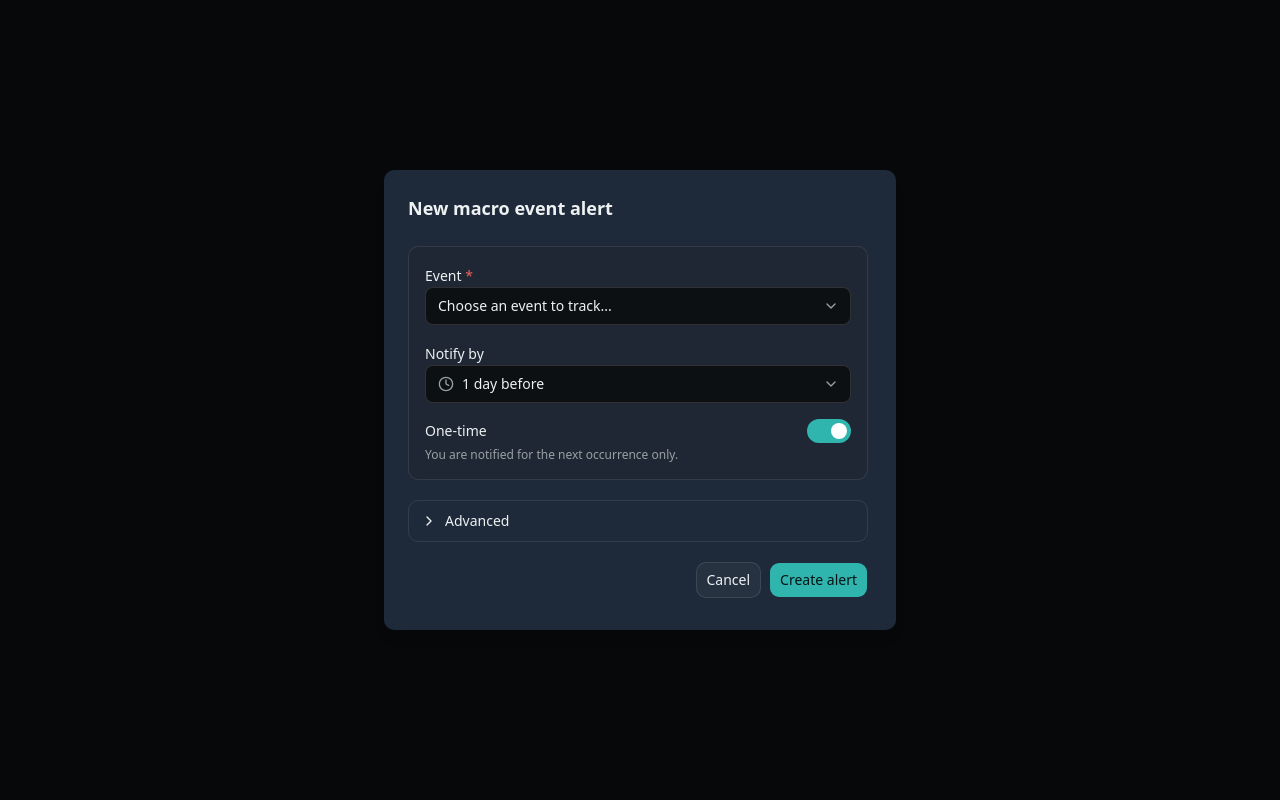
Test: MacroAlertForm › folds notification channels behind Advanced
Expected: the switch labelled "In the app" is not shown
Click the button "Advanced". click: [477, 520]
box: [409,501,867,541]
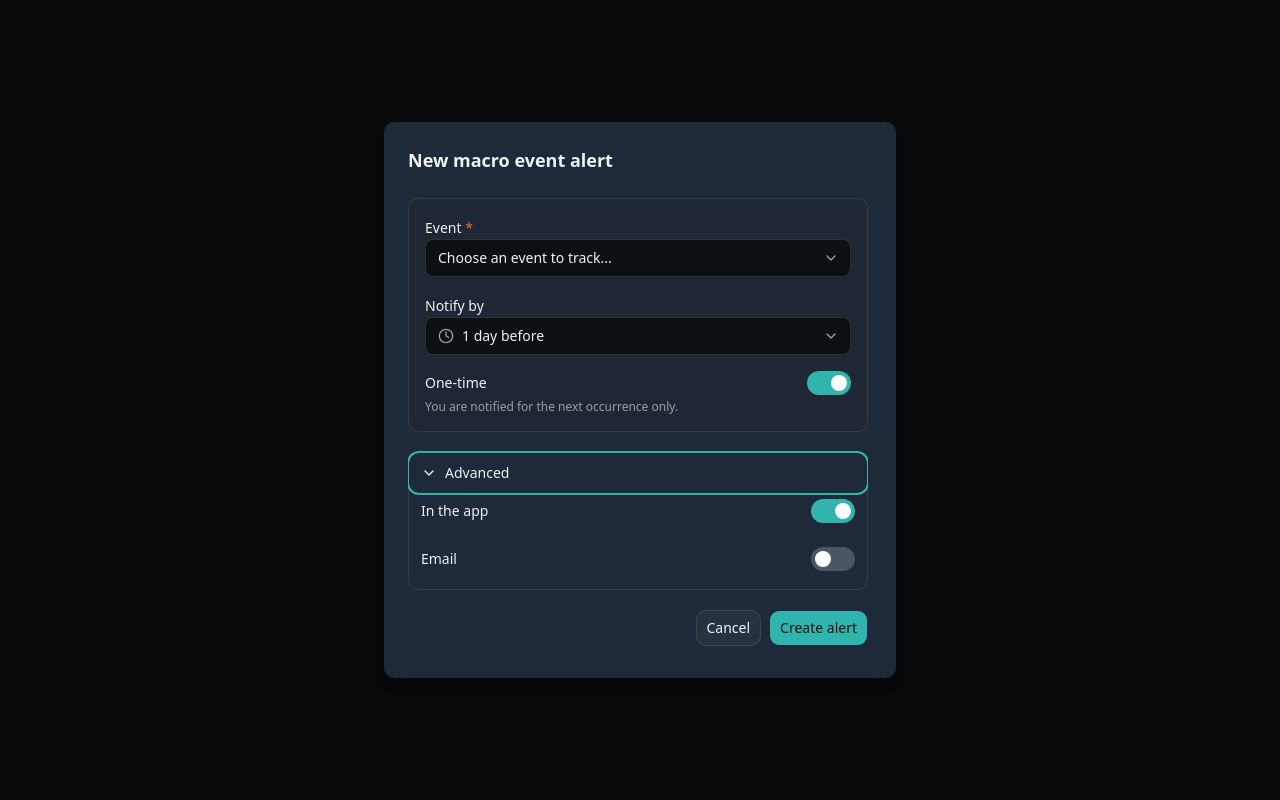
Expected: the switch named "In the app" in the row of "In the app" is shown, [811,499,855,523]
Expected: the switch named "Email" in the row of "Email" is shown, [811,547,855,571]
